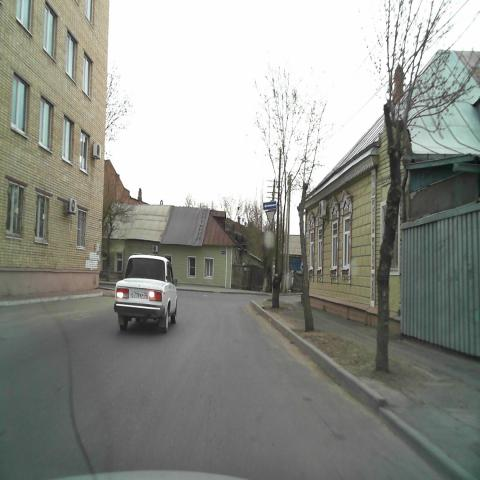2_4: (265, 210, 276, 226)
5_7_2: (262, 201, 277, 210)
